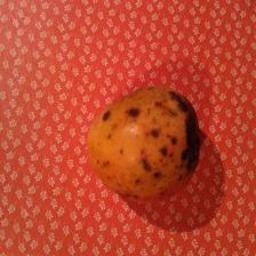Mango Semirotten: (82, 70, 207, 206)
